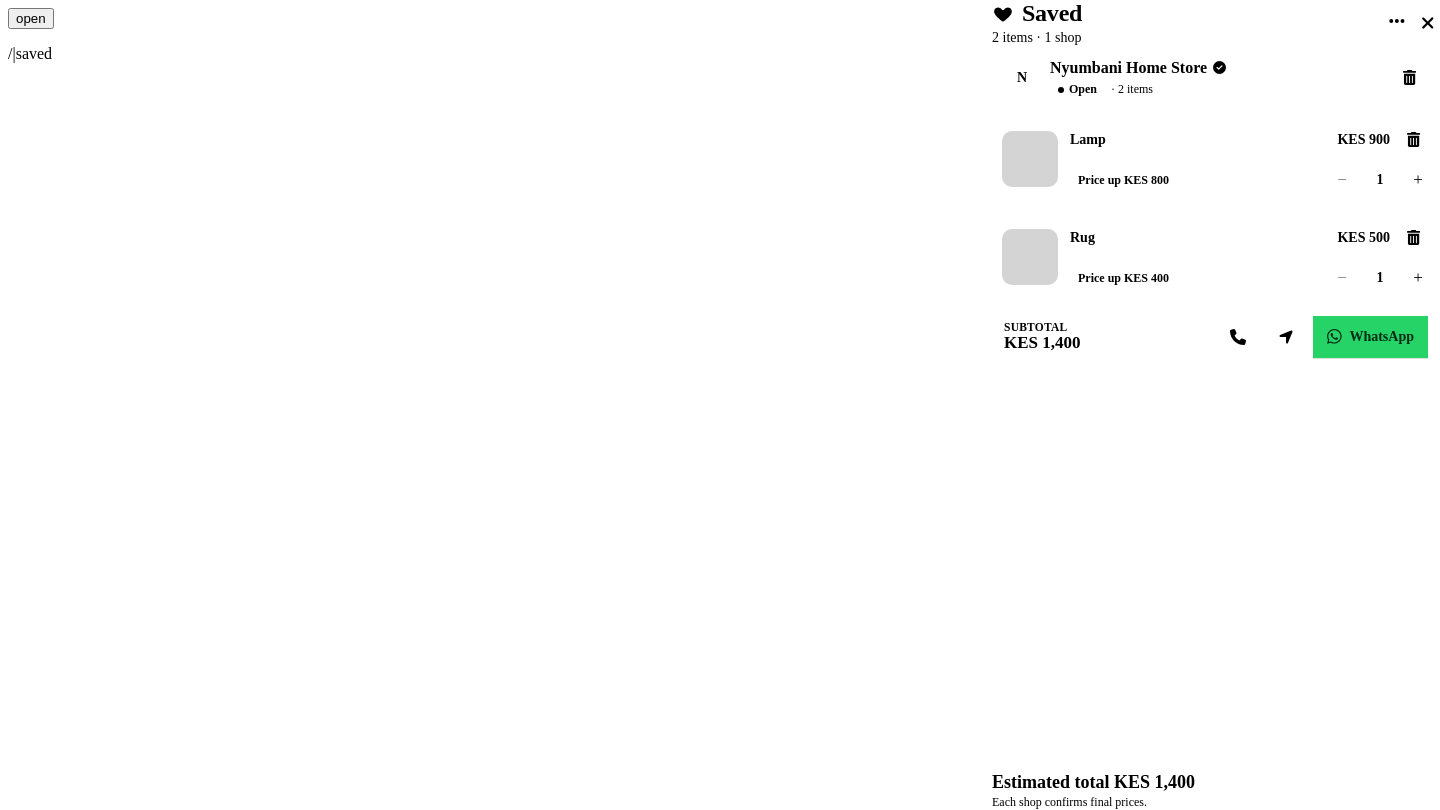
Test: SavedDrawer › Remove all asks inside the app first, then can be undone
The width and height of the screenshot is (1440, 810).
Later steps or results of the test are not shown.
Expected: the link "Lamp" is shown, [1070,132,1106,146]
What coordinates should you click on to do the following:
click the button named "More options"
I would click on:
 (1397, 21)
Its box is [1383,11,1411,31].
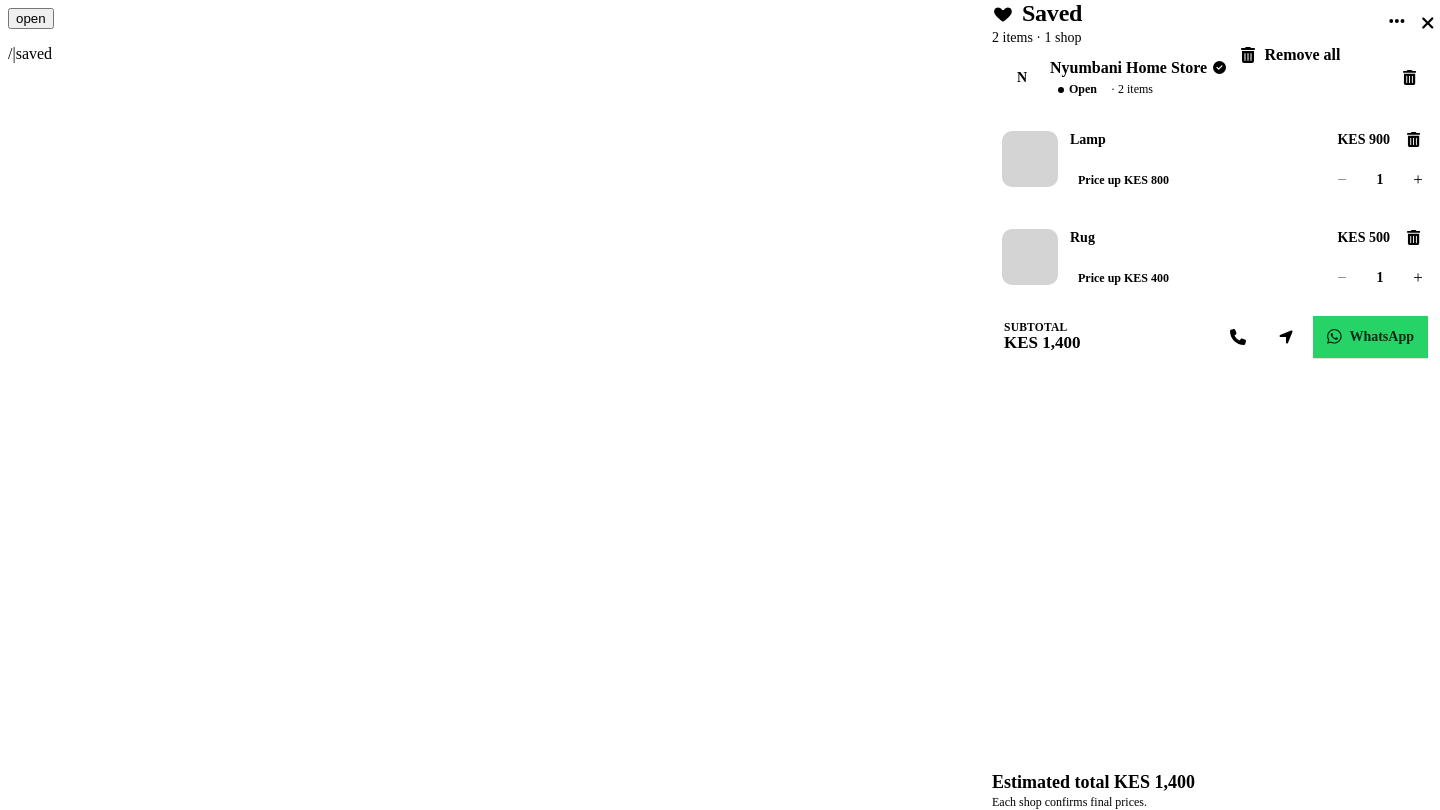
What coordinates should you click on to do the following:
click the button "Remove all"
I would click on:
 (1316, 55)
Its box is [1228,46,1404,64].
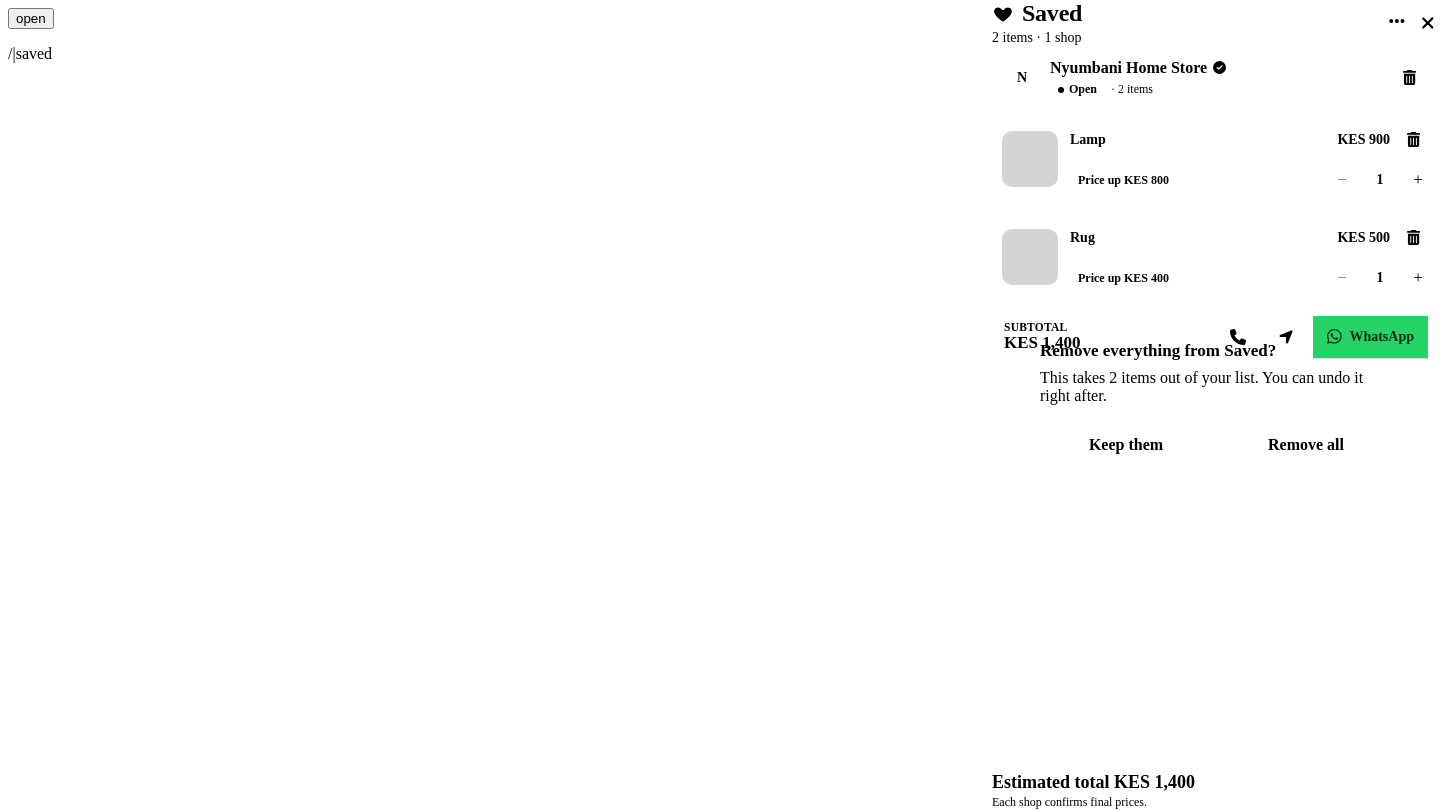
Result: the dialog is shown at [1024,325,1408,485]
